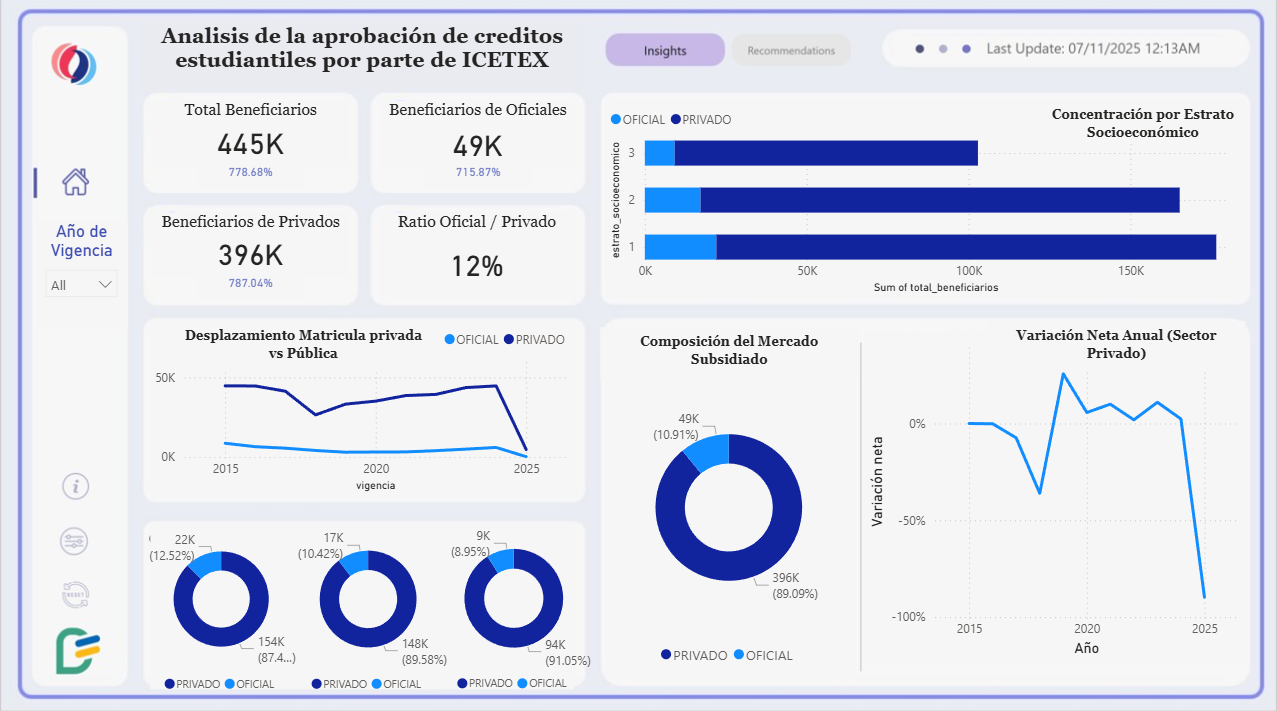

This screenshot's page, from the dashboard's own definition file:
{"tool":"powerbi","page":{"name":"Page 1","canvas":[1280,720],"ordinal":0},"visuals":[{"type":"card","title":"Total Beneficiarios","fields":{"Values":["vw_kpi_desplazamiento_matricula.Total_Beneficiarios2"]},"box":[152.3,105.4,198.5,64.6],"z":0},{"type":"card","fields":{"Values":["vw_kpi_desplazamiento_matricula.```daxVar_Total_YoY"]},"box":[198.9,163.9,106.1,27.8],"z":1000},{"type":"card","title":"Beneficiarios de Oficiales","fields":{"Values":["vw_kpi_desplazamiento_matricula.Beneficiarios_Oficial"]},"box":[382.8,105.6,192.8,68.3],"z":2000},{"type":"card","fields":{"Values":["vw_kpi_desplazamiento_matricula.```daxVar_Oficial_YoY"]},"box":[425.7,163.6,106.4,27.9],"z":3000},{"type":"card","title":"Beneficiarios de Privados","fields":{"Values":["vw_kpi_desplazamiento_matricula.Beneficiarios_Privado"]},"box":[152.1,216.4,198.6,64.3],"z":4000},{"type":"card","fields":{"Values":["vw_kpi_desplazamiento_matricula.```daxVar_Privado_YoY"]},"box":[198.6,275,106.4,27.9],"z":5000},{"type":"card","title":"Ratio Oficial / Privado","fields":{"Values":["vw_kpi_desplazamiento_matricula.Ratio_Oficial_Privado"]},"box":[380,216.4,195.7,86.4],"z":6000},{"type":"slicer","title":"Año de Vigencia","fields":{"Values":["vw_kpi_desplazamiento_matricula.vigencia"]},"box":[36,224.7,92.7,107.3],"z":7000},{"type":"lineChart","fields":{"Category":["vw_kpi_desplazamiento_matricula.vigencia"],"Y":["Sum(vw_kpi_desplazamiento_matricula.total_beneficiarios)"],"Series":["vw_kpi_desplazamiento_matricula.sector_ies"]},"box":[151.4,324.3,424.3,177.1],"z":8000},{"type":"textbox","box":[175,325,259,50],"z":9000},{"type":"barChart","fields":{"Category":["vw_kpi_desplazamiento_matricula.estrato_socioeconomico"],"Y":["Sum(vw_kpi_desplazamiento_matricula.total_beneficiarios)"],"Series":["vw_kpi_desplazamiento_matricula.sector_ies"]},"box":[605.7,104,641.4,198.9],"z":10000},{"type":"textbox","box":[1015.5,103.6,258.2,50],"z":11000},{"type":"donutChart","fields":{"Y":["Sum(vw_kpi_desplazamiento_matricula.total_beneficiarios)"],"Category":["vw_kpi_desplazamiento_matricula.sector_ies"]},"box":[605.5,375.5,250,302.7],"z":12000},{"type":"textbox","box":[601.8,331.8,258.2,50],"z":13000},{"type":"lineChart","fields":{"Category":["vw_kpi_desplazamiento_matricula.vigencia"],"Y":["vw_kpi_desplazamiento_matricula.```daxVar_Privado_YoY"]},"box":[864.4,336.7,382.2,328.9],"z":14000},{"type":"textbox","box":[988.9,325.6,257.8,50],"z":15000},{"type":"shape","box":[151.4,526.4,424.3,167.1],"z":16000},{"type":"donutChart","fields":{"Y":["Sum(vw_kpi_desplazamiento_matricula.total_beneficiarios)"],"Category":["vw_kpi_desplazamiento_matricula.sector_ies"]},"box":[138.2,527.3,167.3,178.2],"z":17000},{"type":"donutChart","fields":{"Y":["Sum(vw_kpi_desplazamiento_matricula.total_beneficiarios)"],"Category":["vw_kpi_desplazamiento_matricula.sector_ies"]},"box":[282.7,527.3,173.6,178.2],"z":18000},{"type":"donutChart","fields":{"Y":["Sum(vw_kpi_desplazamiento_matricula.total_beneficiarios)"],"Category":["vw_kpi_desplazamiento_matricula.sector_ies"]},"box":[425.5,526.4,180,179.1],"z":19000},{"type":"textbox","box":[142.9,22.9,441.4,71.4],"z":19001}]}

Visuals, with their boxes in screenshot pixels (x1, y1, x2, y2), scaled from the page's 1280x720 canvas onto the 1277x711 screenshot:
"Total Beneficiarios" card: 152 104 350 168
card - vw_kpi_desplazamiento_matricula.```daxVar_Total_YoY: 198 162 304 189
"Beneficiarios de Oficiales" card: 382 104 574 172
card - vw_kpi_desplazamiento_matricula.```daxVar_Oficial_YoY: 425 162 531 189
"Beneficiarios de Privados" card: 152 214 350 277
card - vw_kpi_desplazamiento_matricula.```daxVar_Privado_YoY: 198 272 304 299
"Ratio Oficial / Privado" card: 379 214 574 299
"Año de Vigencia" slicer: 36 222 128 328
lineChart - vw_kpi_desplazamiento_matricula.vigencia x Sum(vw_kpi_desplazamiento_matricula.total_beneficiarios): 151 320 574 495
textbox: 175 321 433 370
barChart - vw_kpi_desplazamiento_matricula.estrato_socioeconomico x Sum(vw_kpi_desplazamiento_matricula.total_beneficiarios): 604 103 1244 299
textbox: 1013 102 1271 152
donutChart - Sum(vw_kpi_desplazamiento_matricula.total_beneficiarios) x vw_kpi_desplazamiento_matricula.sector_ies: 604 371 853 670
textbox: 600 328 858 377
lineChart - vw_kpi_desplazamiento_matricula.vigencia x vw_kpi_desplazamiento_matricula.```daxVar_Privado_YoY: 862 332 1244 657
textbox: 987 322 1244 371
shape: 151 520 574 685
donutChart - Sum(vw_kpi_desplazamiento_matricula.total_beneficiarios) x vw_kpi_desplazamiento_matricula.sector_ies: 138 521 305 697
donutChart - Sum(vw_kpi_desplazamiento_matricula.total_beneficiarios) x vw_kpi_desplazamiento_matricula.sector_ies: 282 521 455 697
donutChart - Sum(vw_kpi_desplazamiento_matricula.total_beneficiarios) x vw_kpi_desplazamiento_matricula.sector_ies: 425 520 604 697
textbox: 143 23 583 93
